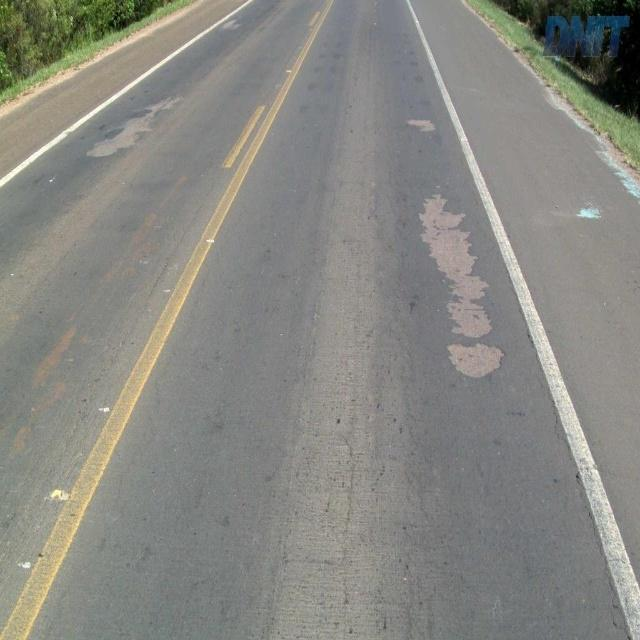pothole: (413, 185, 506, 383), (81, 101, 185, 164), (401, 114, 438, 134)
